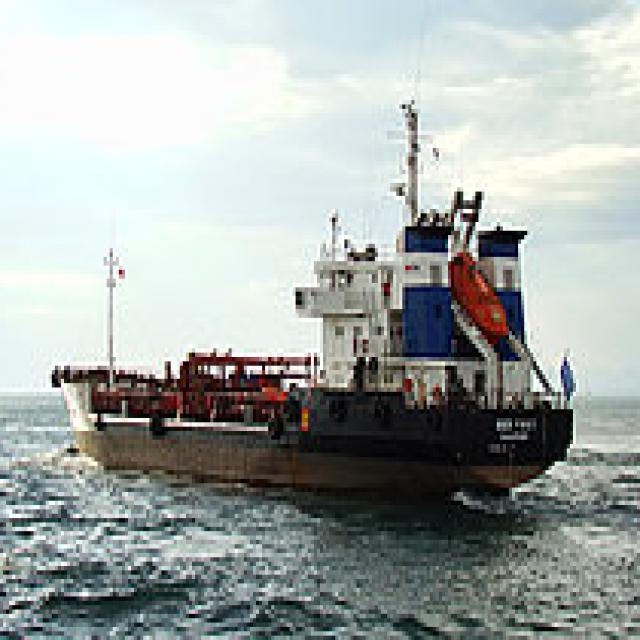Tanker: (52, 91, 579, 496)
